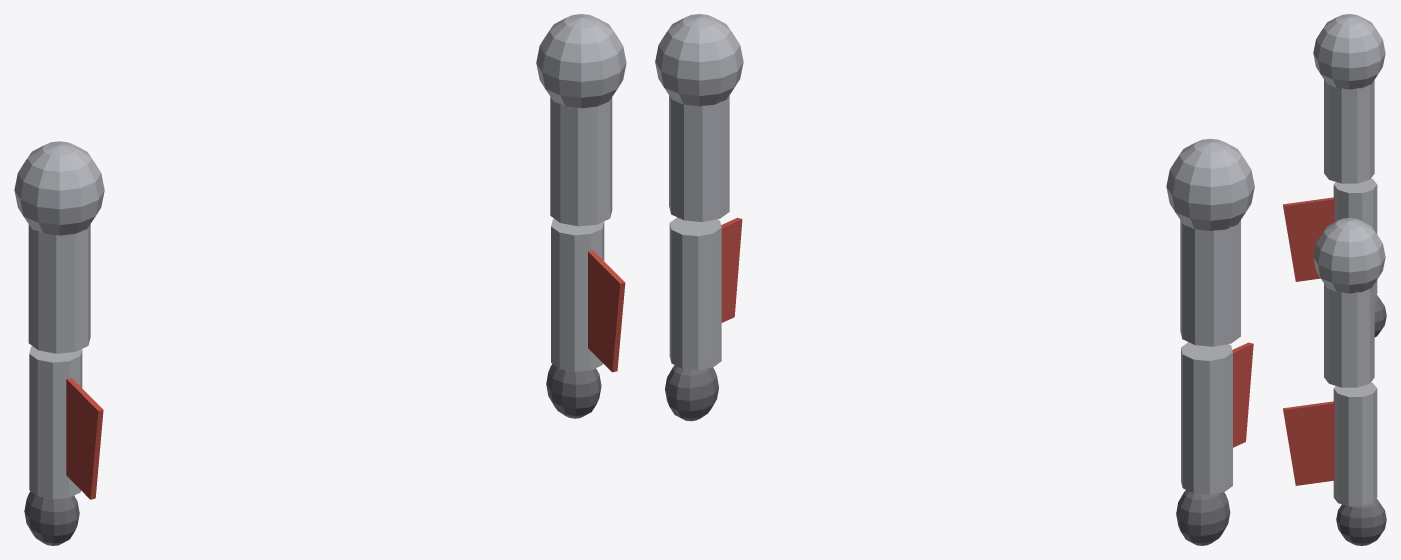
File: quickjack-arm.glb
The picture shows the model from 3 angles, left to right: view 1: azimuth 30°, elevation 25°; view 2: azimuth 150°, elevation 25°; view 3: azimuth 270°, elevation 25°; orthographic projection. The views are drawn at different scales.
Visible parts, largest first — view 1: upper_l, upper_r, delt_l, delt_r, fore_r, fore_l, fin_r, fin_l, hand_r, hand_l; view 2: fore_l, fore_r, upper_l, upper_r, delt_l, delt_r, hand_r, hand_l, fin_l, fin_r; view 3: fore_l, upper_l, upper_r, delt_r, delt_l, fin_l, fin_r, fore_r, hand_l, hand_r.
Boxes of the visible parts, x1,y1,x2,y2 form: upper_l: (550,97,612,226); upper_r: (28,224,90,353); delt_l: (536,14,626,108); delt_r: (14,141,104,235); fore_r: (29,346,82,499); fore_l: (551,219,604,371); fin_r: (66,377,103,499); fin_l: (588,250,625,372); hand_r: (24,491,79,545); hand_l: (546,364,601,418); fore_l: (669,217,721,369); fore_r: (1181,342,1232,494); upper_l: (669,95,729,221); upper_r: (1180,220,1240,346); delt_l: (655,14,743,106); delt_r: (1166,138,1254,231); hand_r: (1176,490,1230,545); hand_l: (665,365,718,421); fin_l: (721,217,742,322); fin_r: (1232,342,1253,447); fore_l: (1333,382,1377,506); upper_l: (1324,283,1374,387); upper_r: (1324,80,1374,183); delt_r: (1313,14,1385,89); delt_l: (1313,218,1385,293); fin_l: (1283,401,1334,485); fin_r: (1283,197,1334,281); fore_r: (1333,178,1377,296); hand_l: (1336,498,1386,545); hand_r: (1374,294,1386,337).
Bounding box in the file's own units: 0.92 × 0.5915 × 0.1719.
